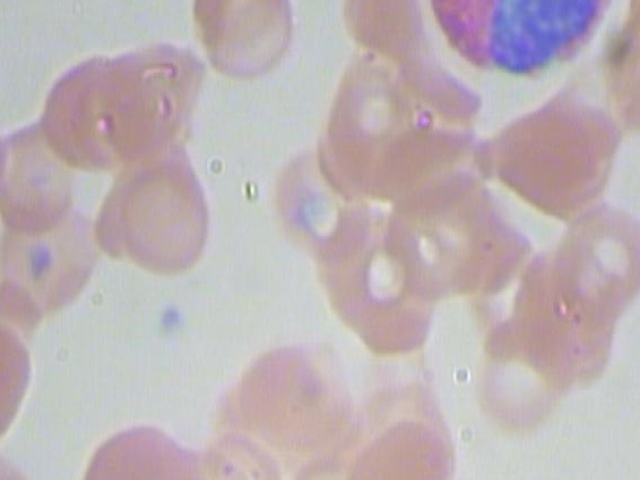Platelets: (144, 297, 192, 345)
RBC: (472, 65, 630, 221), (208, 311, 353, 465), (313, 208, 458, 361), (312, 44, 441, 199), (459, 298, 586, 454), (108, 144, 233, 294), (95, 20, 220, 169), (27, 33, 152, 182), (0, 167, 109, 323), (265, 140, 377, 267), (0, 89, 88, 243), (541, 200, 640, 332), (181, 0, 306, 92), (338, 406, 463, 480), (77, 415, 202, 480), (175, 420, 300, 480)
WBC: (417, 0, 619, 77)
